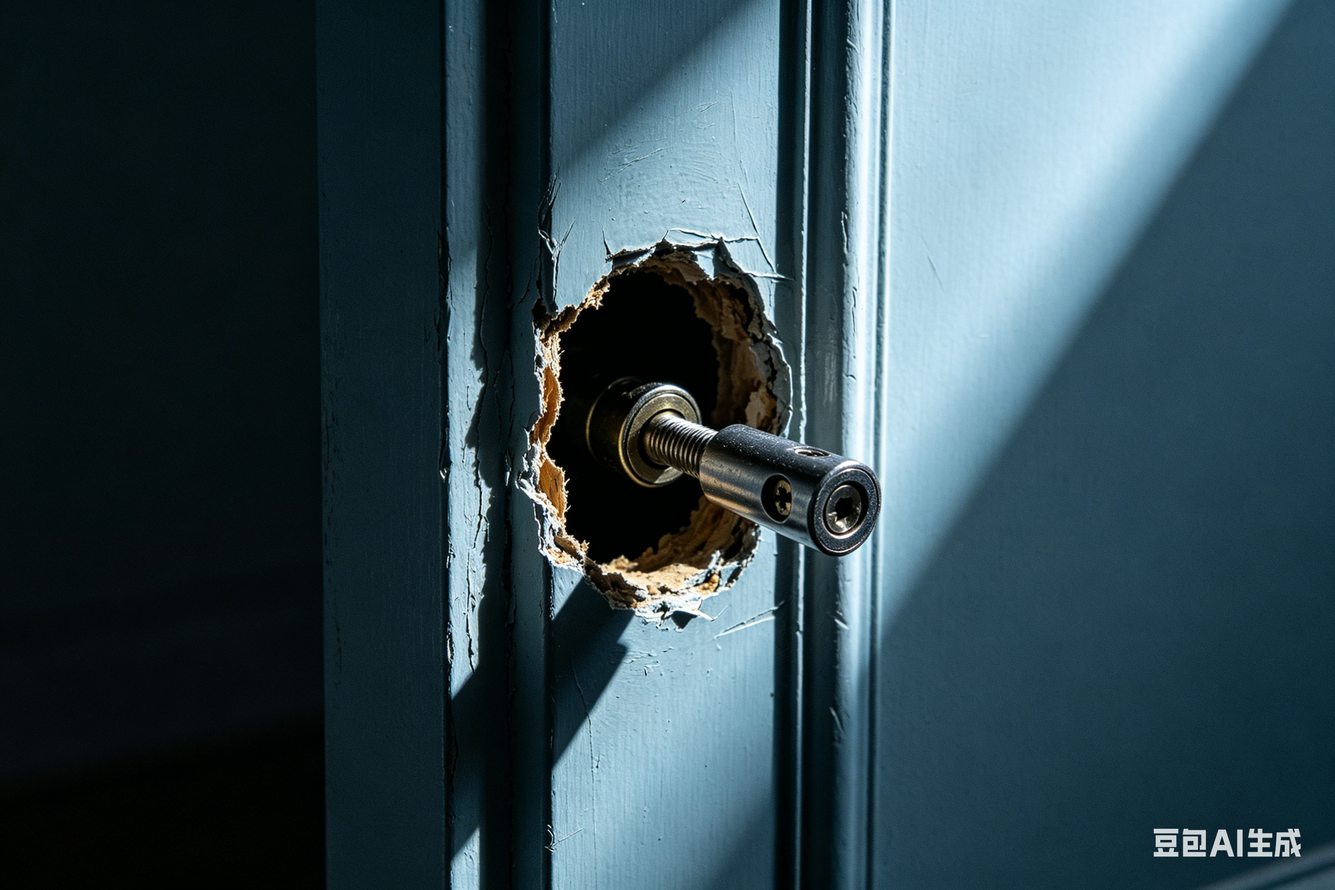BadLock: (547, 265, 791, 596)
